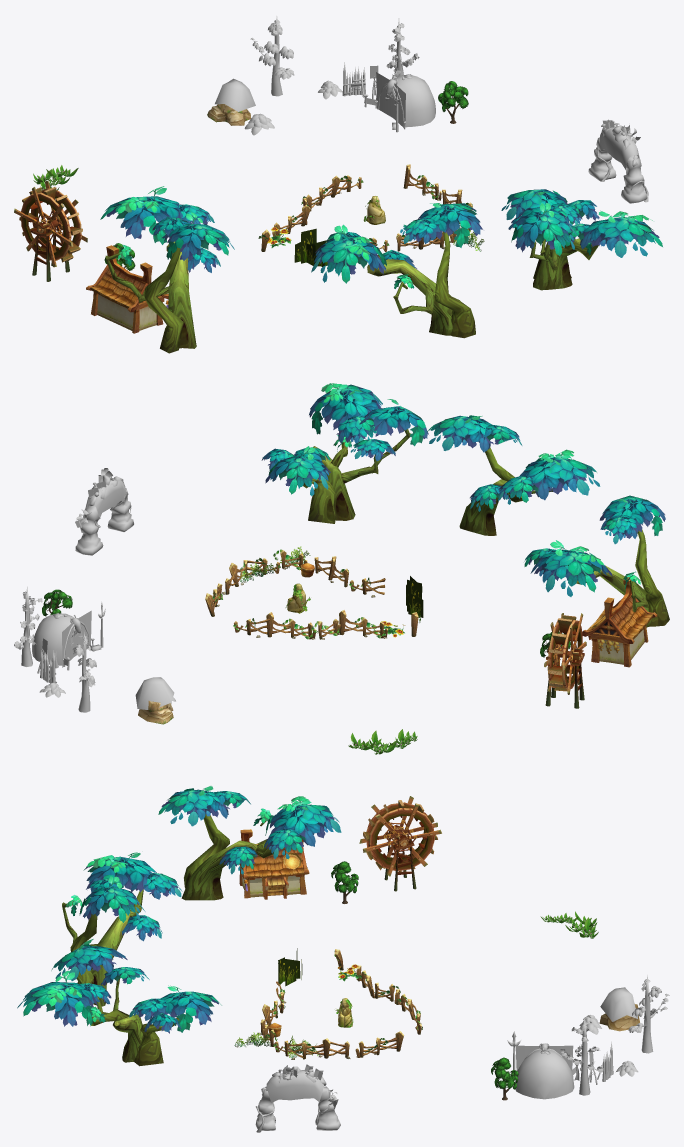
The model's file is Aurora.fbx.
The picture shows the model from 3 angles, top to bottom: view 1: azimuth 30°, elevation 25°; view 2: azimuth 150°, elevation 25°; view 3: azimuth 270°, elevation 25°; orthographic projection. The views are drawn at different scales.
Parts seen in each view (by area): view 1: DrawCall_0252, DrawCall_0253, DrawCall_0246, 对象01, DrawCall_0088, DrawCall_0079, DrawCall_0092, TelNumara_Stonegate, folliageTree01.009, DrawCall_0294; view 2: DrawCall_0246, DrawCall_0253, DrawCall_0252, 对象01, DrawCall_0079, DrawCall_0092, TelNumara_Stonegate, DrawCall_0088, DrawCall_0294, folliageTree01.009; view 3: DrawCall_0246, DrawCall_0252, 对象01, DrawCall_0253, DrawCall_0079, DrawCall_0088, TelNumara_Stonegate, DrawCall_0092, folliageTree01.000, folliageTree01.009.
Part boxes in pixels (x1,y1,x2,y2): DrawCall_0252: (100,186,234,353); DrawCall_0253: (311,203,482,338); DrawCall_0246: (501,189,662,290); 对象01: (215,16,435,135); DrawCall_0088: (14,181,87,281); DrawCall_0079: (267,164,484,266); DrawCall_0092: (86,245,168,333); TelNumara_Stonegate: (588,119,648,203); folliageTree01.009: (438,81,468,123); DrawCall_0294: (207,104,250,125); DrawCall_0246: (261,383,428,523); DrawCall_0253: (427,415,600,535); DrawCall_0252: (524,495,669,627); 对象01: (14,586,175,712); DrawCall_0079: (205,546,423,639); DrawCall_0092: (582,577,657,667); TelNumara_Stonegate: (75,468,133,555); DrawCall_0088: (544,613,586,708); DrawCall_0294: (138,701,173,724); folliageTree01.009: (42,589,72,616); DrawCall_0246: (17,939,221,1066); DrawCall_0252: (158,786,341,900); 对象01: (507,975,669,1099); DrawCall_0253: (62,852,182,1006); DrawCall_0079: (234,948,422,1059); DrawCall_0088: (359,796,441,891); TelNumara_Stonegate: (255,1064,340,1132); DrawCall_0092: (239,829,309,899); folliageTree01.000: (331,861,358,903); folliageTree01.009: (491,1057,518,1100).
Size of what is drawn, in the model's own units: 13850 by 3070 by 14919.
